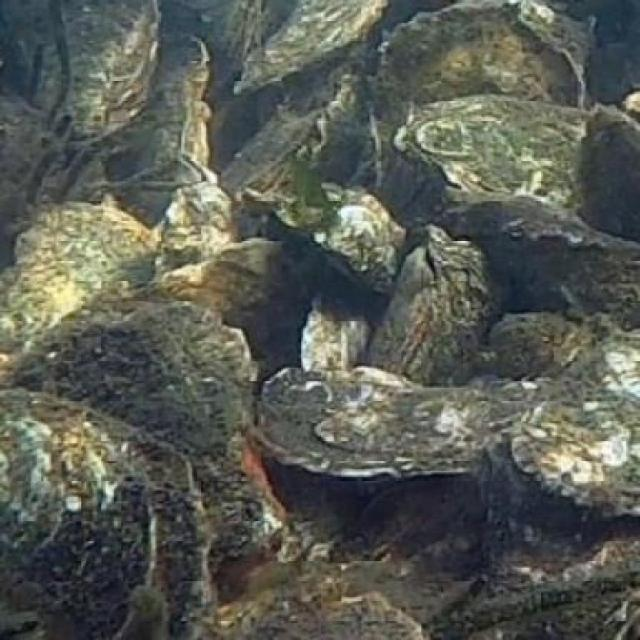Oyster-Indeterminate: (0, 385, 214, 640), (16, 311, 258, 465), (254, 367, 532, 484), (0, 202, 171, 364), (393, 96, 595, 215), (381, 2, 587, 114), (513, 334, 640, 509), (371, 235, 497, 380), (117, 35, 209, 231), (61, 0, 169, 145), (240, 0, 390, 92), (312, 187, 414, 303)
